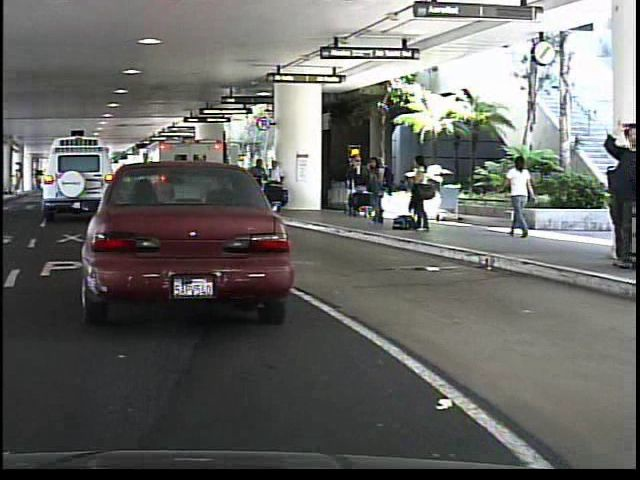person: (592, 115, 640, 271), (499, 154, 537, 239), (403, 152, 430, 233)
